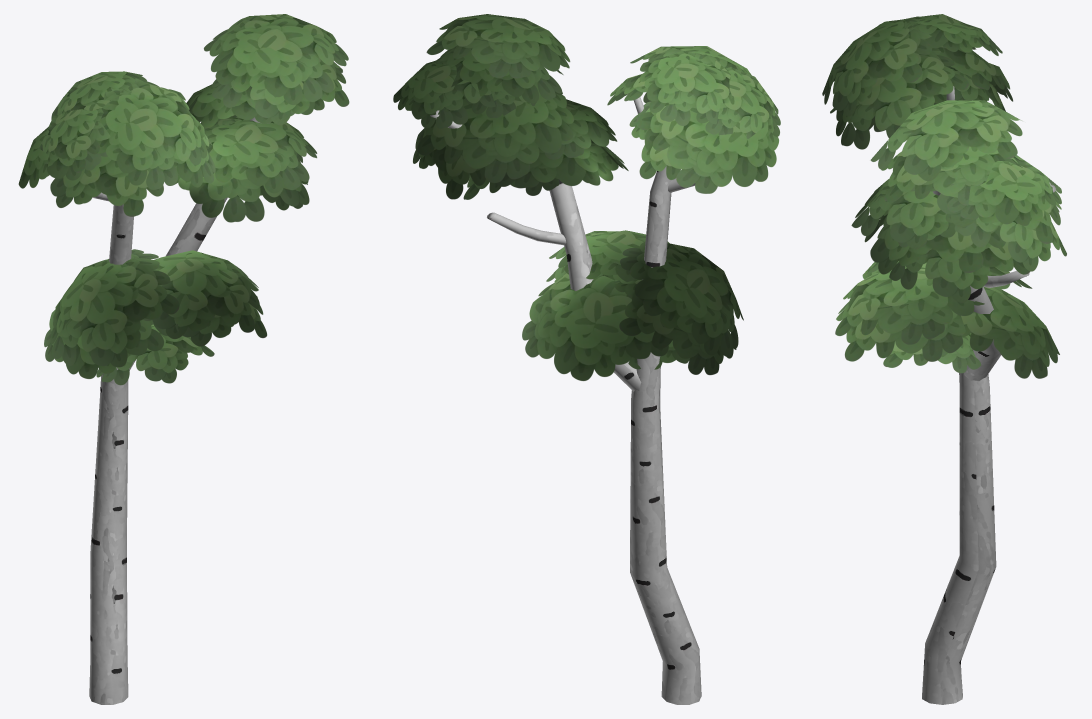
Rendered from street-tree-6.glb.
The picture shows the model from 3 angles, left to right: view 1: azimuth 30°, elevation 25°; view 2: azimuth 150°, elevation 25°; view 3: azimuth 270°, elevation 25°; orthographic projection. The views are drawn at different scales.
Parts seen in each view (by area): view 1: Birch_2; view 2: Birch_2; view 3: Birch_2.
Boxes of the visible parts, x1,y1,x2,y2 form: Birch_2: (18,14,349,704); Birch_2: (393,14,780,704); Birch_2: (822,14,1066,704).
Bounding box in the file's own units: 5.11 × 8.94 × 3.06.
2 materials, 2 textured.
